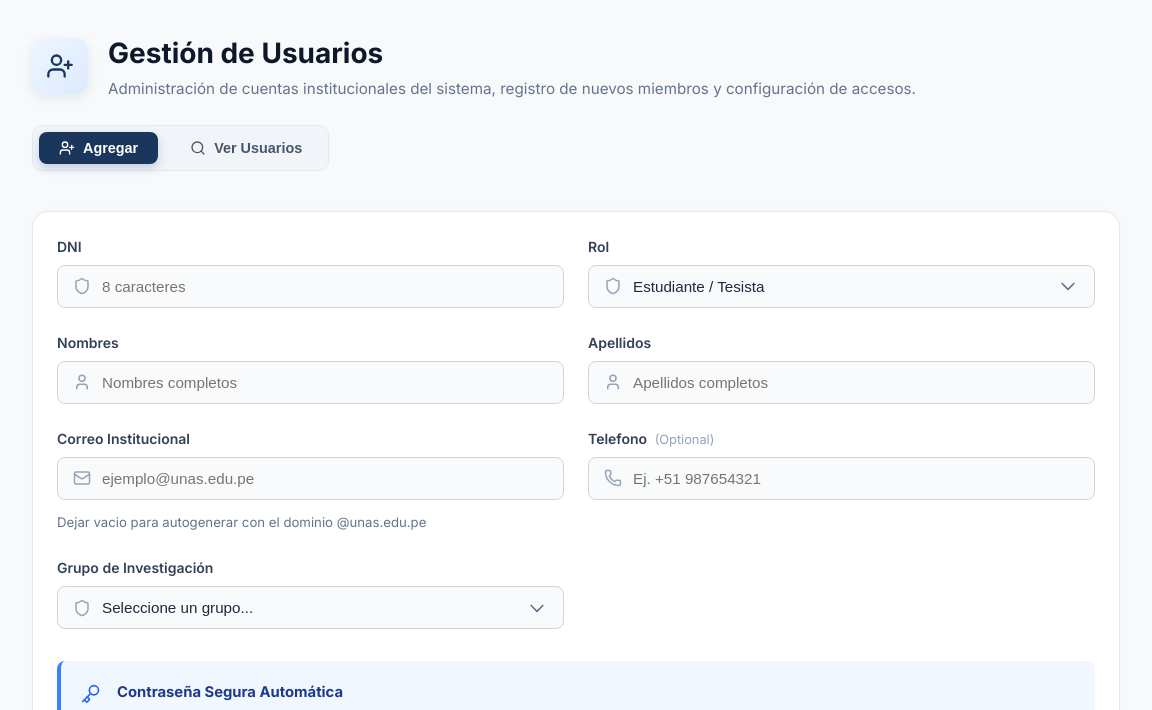
CreateUser page › displays error message when createUser fails
Type "87654321" into the field with placeholder "8 caracteres" at {"x": 310, "y": 286}, box [57,265,564,308]
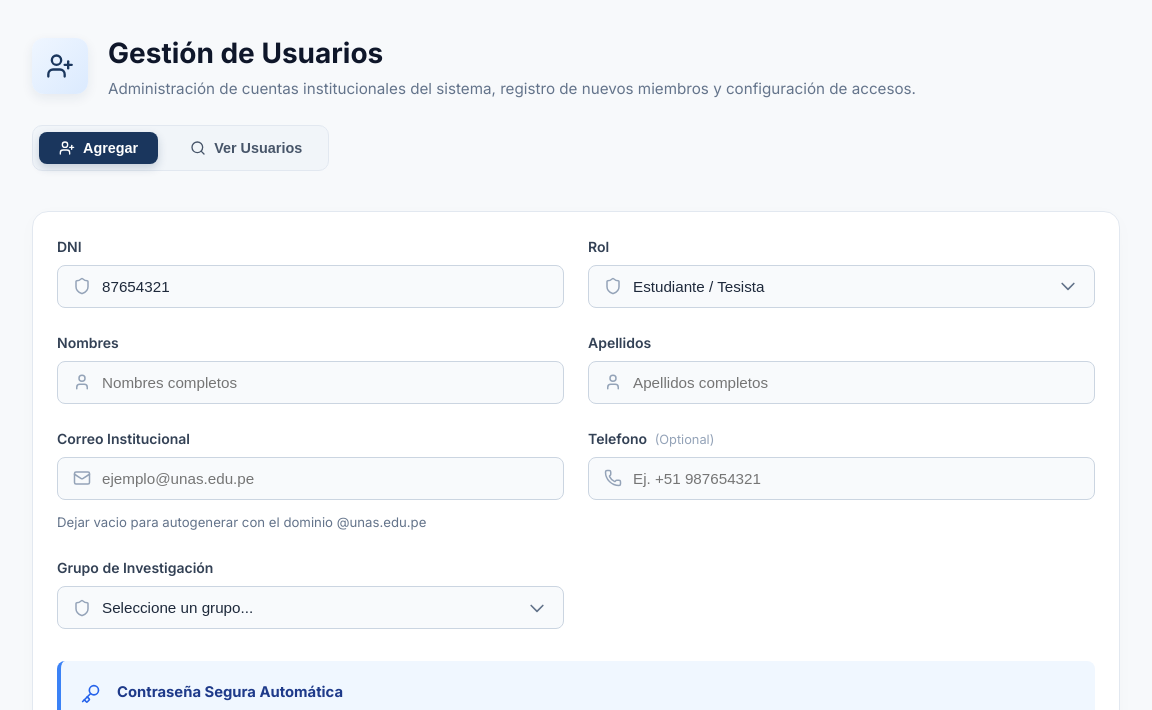
Type "Juan" into the field with placeholder "Nombres completos" at {"x": 310, "y": 382}, box [57,361,564,404]
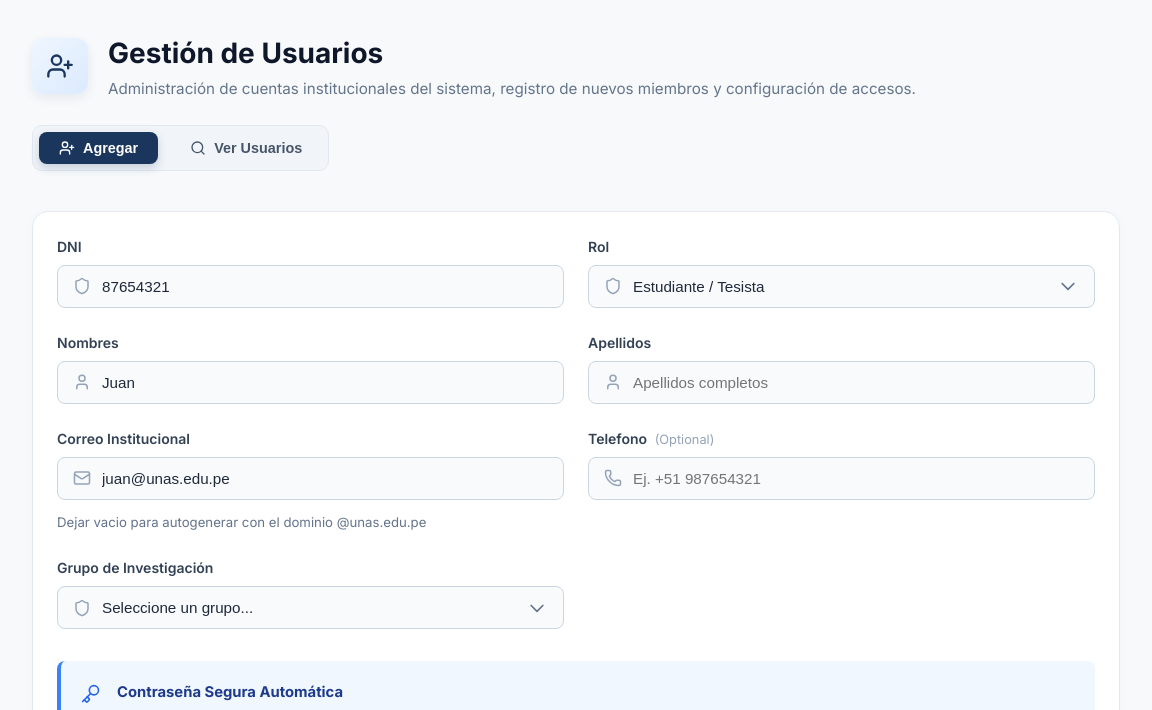
Type "Perez" into the field with placeholder "Apellidos completos" at {"x": 842, "y": 382}, box [588,361,1095,404]
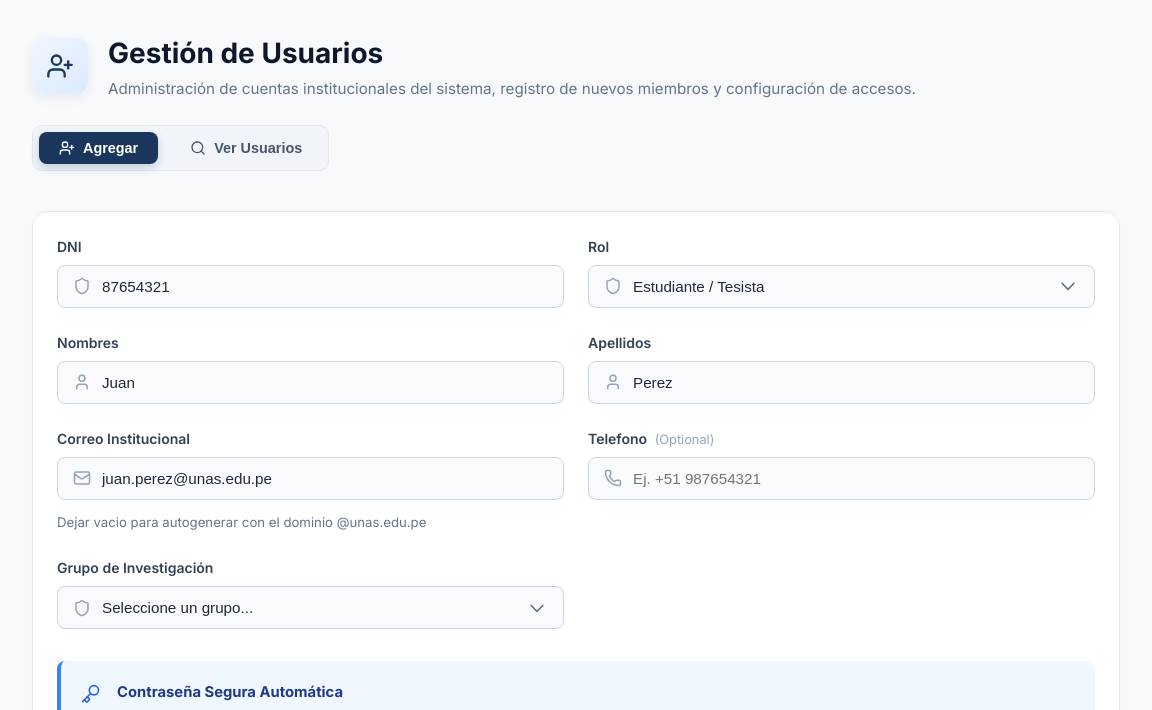
Select "GI-SOFT (G01)" in the dropdown labelled "Grupo de Investigación" at {"x": 310, "y": 608}, box [57,586,564,629]
(page scrolled)
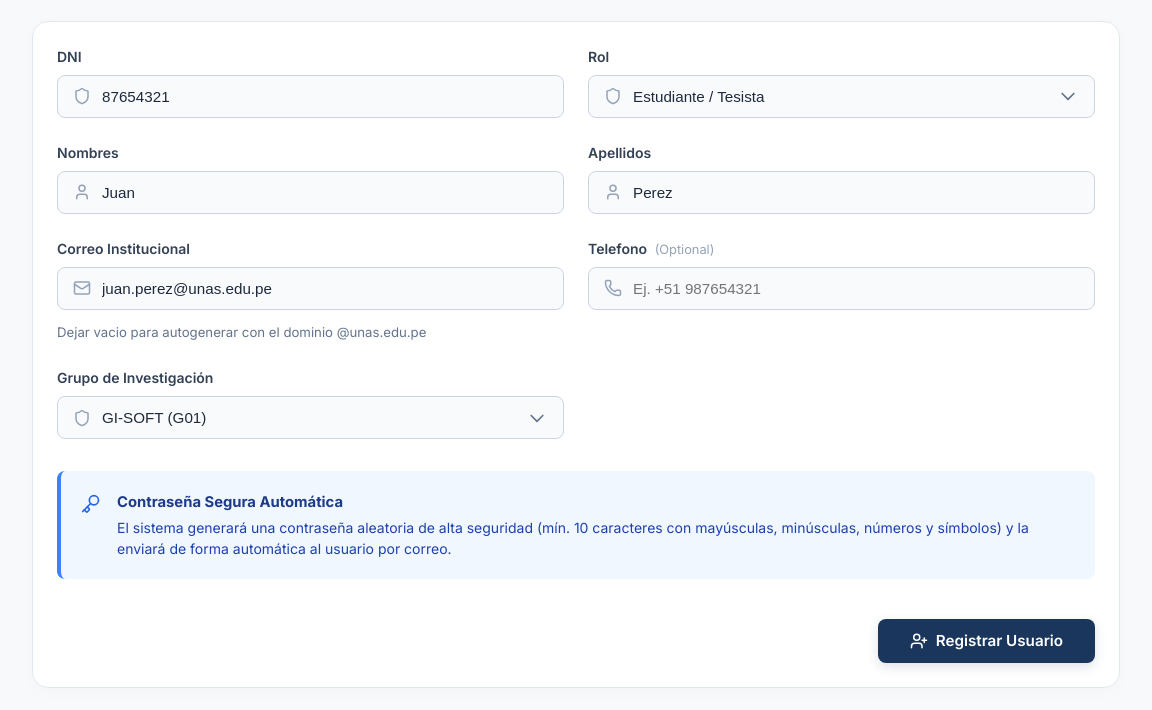
Click the button "Registrar Usuario" at {"x": 986, "y": 641}, box [878,619,1095,663]
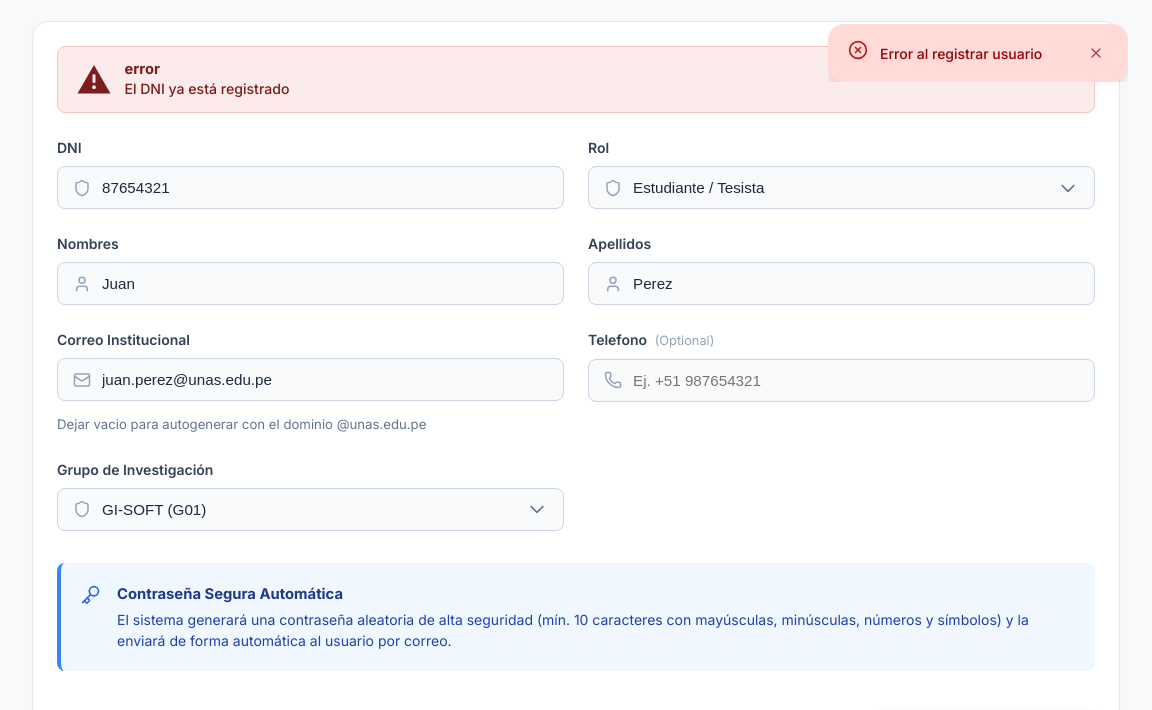
Now the text "El DNI ya está registrado" is shown, box [124,80,290,98]
